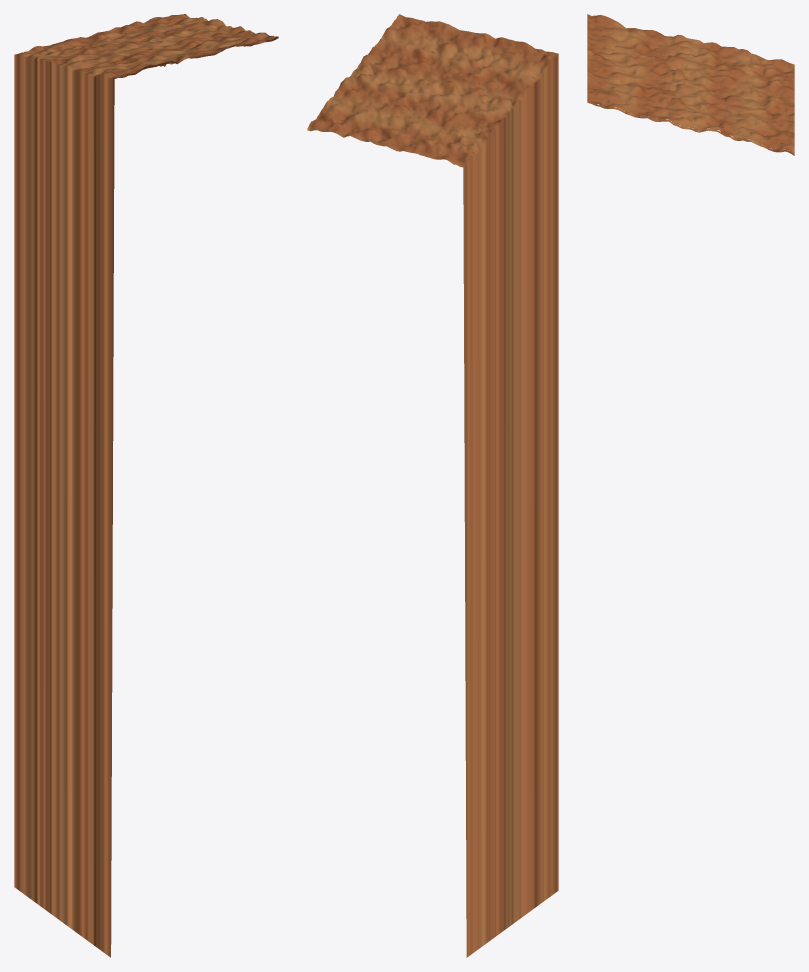
File: terrain-120.glb
The picture shows the model from 3 angles, left to right: view 1: azimuth 30°, elevation 25°; view 2: azimuth 150°, elevation 25°; view 3: azimuth 270°, elevation 25°; orthographic projection. The views are drawn at different scales.
Parts seen in each view (by area): view 1: terrain-120; view 2: terrain-120; view 3: terrain-120.
Boxes of the visible parts, x1,y1,x2,y2 form: terrain-120: (14, 14, 278, 957); terrain-120: (307, 14, 558, 957); terrain-120: (587, 14, 794, 155).
Bounding box in the file's own units: 384 × 1936 × 384.
